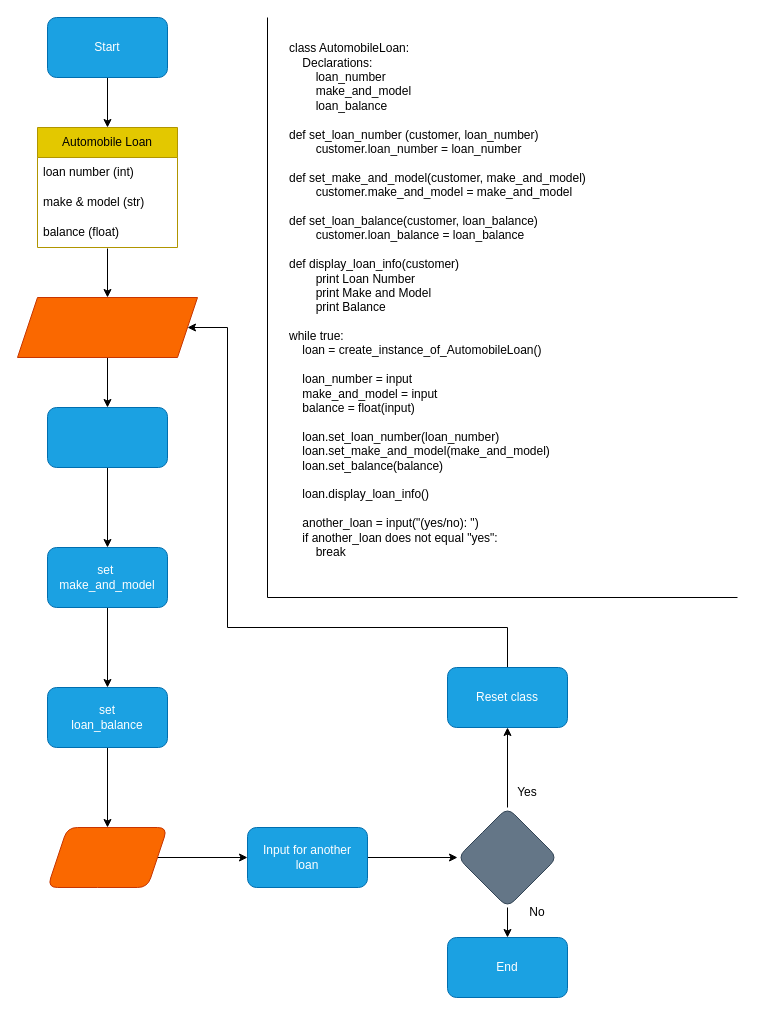
Image size: 765x1015. Some labels were removed from this diagram. Here are the shapes that lost their labels. From the top down, the centre of each, then its label:
the point at 107,327: input loan_number, make_and_model, loan_balance
the point at 107,437: set loan_number
the point at 107,857: Output Loan Information
the point at 507,857: does input equal yes?
